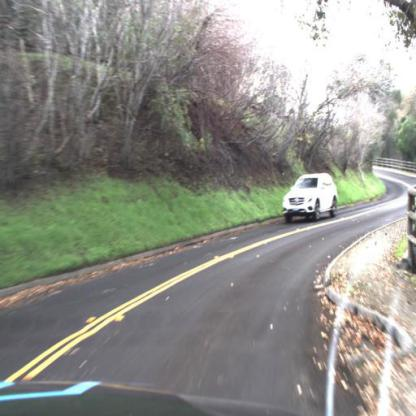car: (281, 164, 347, 229)
